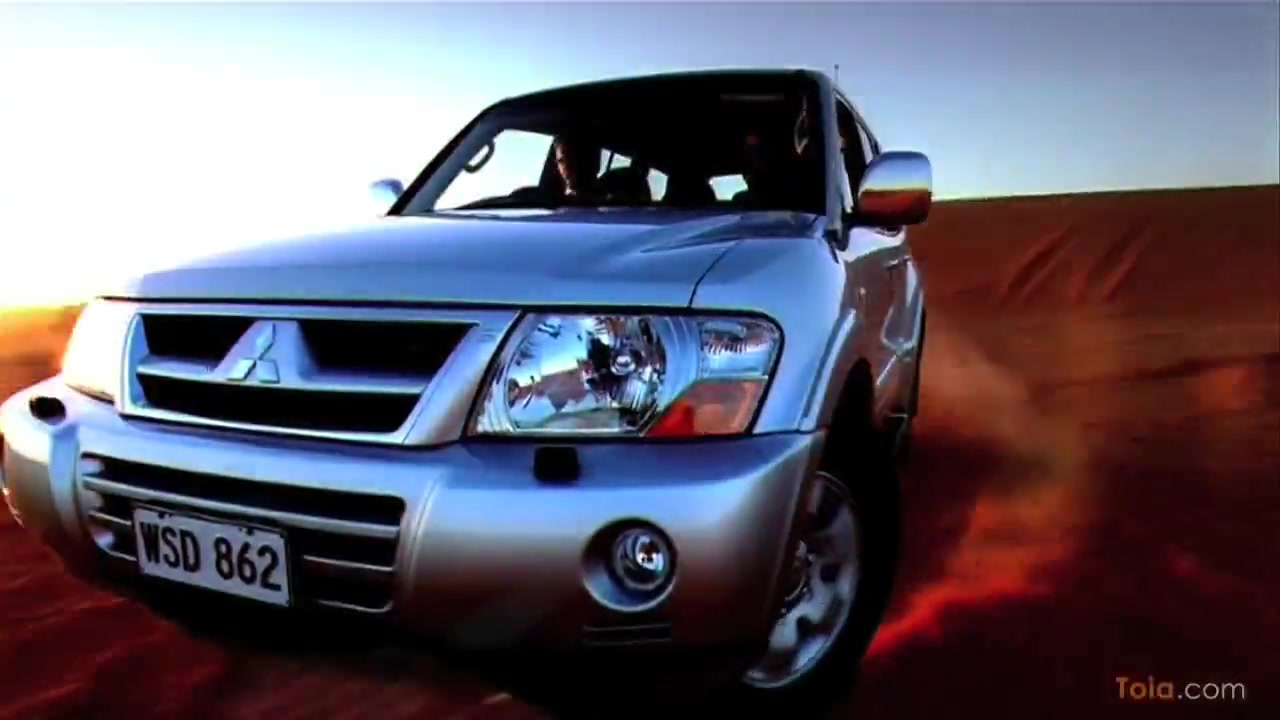car: (4, 66, 934, 705)
